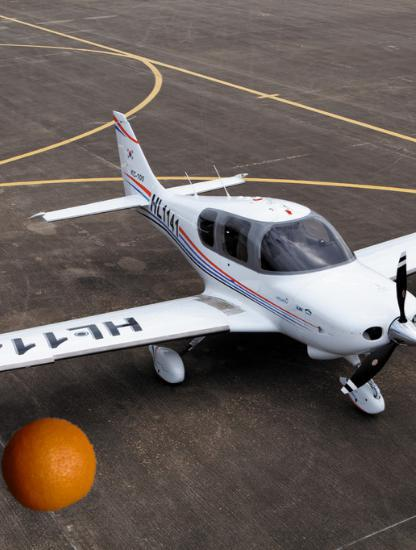Orange: (0, 415, 98, 513)
